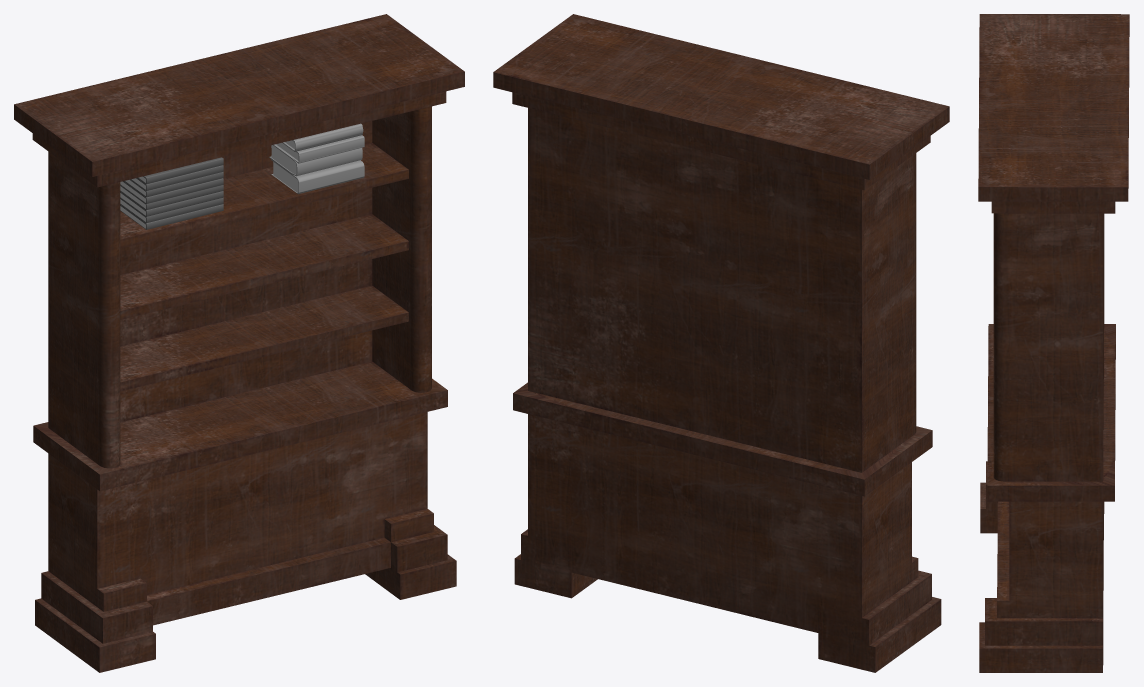
File: bookcase.glb
3 renders of one model, left to right at view 1: azimuth 30°, elevation 25°; view 2: azimuth 150°, elevation 25°; view 3: azimuth 270°, elevation 25°, orthographic. The views are drawn at different scales.
Visible parts, largest first — view 1: SM_Bookcase_T_Bookcase_0, FMB_Stack_01_Pt_04_M_Cover_01_0.001, FMB_Stack_01_Pt_05_M_Cover_01_0.001, FMB_Stack_01_Pt_01_M_Cover_01_0.001, FMB_Stack_01_Pt_03_M_Cover_01_0.001, FMB_Stack_01_Pt_02_M_Cover_02_0.003, FMB_Stack_01_Pt_02_M_Cover_02_0.001, FMB_Stack_01_Pt_02_M_Cover_02_0.008, FMB_Stack_01_Pt_02_M_Cover_02_0.002, FMB_Stack_01_Pt_02_M_Cover_02_0.005, FMB_Stack_01_Pt_02_M_Cover_02_0.004, FMB_Stack_01_Pt_02_M_Cover_02_0.006 (+1 smaller); view 2: SM_Bookcase_T_Bookcase_0; view 3: SM_Bookcase_T_Bookcase_0.
Boxes of the visible parts, left/top/right/bottom form: SM_Bookcase_T_Bookcase_0: left=14, top=14, right=464, bottom=672; FMB_Stack_01_Pt_04_M_Cover_01_0.001: left=271, top=159, right=364, bottom=194; FMB_Stack_01_Pt_05_M_Cover_01_0.001: left=269, top=144, right=362, bottom=176; FMB_Stack_01_Pt_01_M_Cover_01_0.001: left=276, top=135, right=364, bottom=163; FMB_Stack_01_Pt_03_M_Cover_01_0.001: left=282, top=123, right=363, bottom=151; FMB_Stack_01_Pt_02_M_Cover_02_0.003: left=120, top=191, right=223, bottom=216; FMB_Stack_01_Pt_02_M_Cover_02_0.001: left=120, top=204, right=223, bottom=229; FMB_Stack_01_Pt_02_M_Cover_02_0.008: left=137, top=157, right=223, bottom=184; FMB_Stack_01_Pt_02_M_Cover_02_0.002: left=120, top=197, right=223, bottom=223; FMB_Stack_01_Pt_02_M_Cover_02_0.005: left=120, top=178, right=223, bottom=203; FMB_Stack_01_Pt_02_M_Cover_02_0.004: left=120, top=185, right=223, bottom=210; FMB_Stack_01_Pt_02_M_Cover_02_0.006: left=124, top=172, right=223, bottom=197; SM_Bookcase_T_Bookcase_0: left=493, top=14, right=949, bottom=672; SM_Bookcase_T_Bookcase_0: left=978, top=14, right=1129, bottom=672.
Bounding box in the file's own units: 16.23 × 21.37 × 5.98.
Materials: 5 (1 with a texture image).
